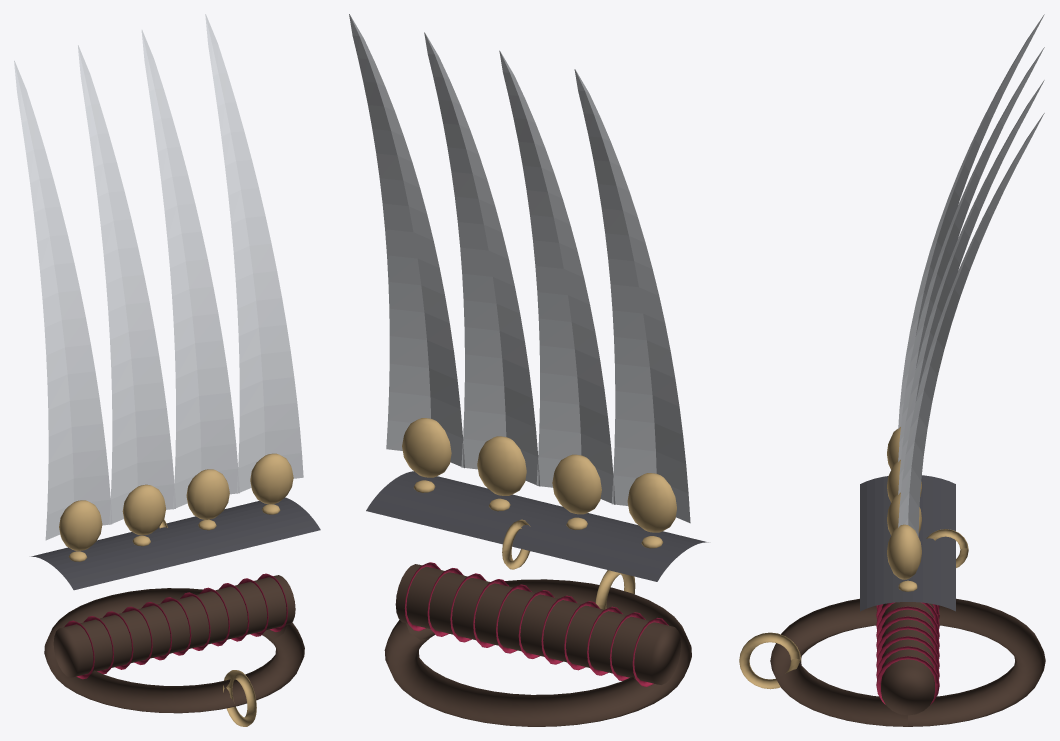
Rendered from tekko_kagi_kurotsuki.glb.
3 views of the same model, side by side, from view 1: azimuth 30°, elevation 25°; view 2: azimuth 150°, elevation 25°; view 3: azimuth 270°, elevation 25° (orthographic). The views are drawn at different scales.
Parts seen in each view (by area): view 1: claws, grip, knuckle_plate, hand_strap, claw_bases, grip_wrap, strap_ring, plate_edges; view 2: claws, grip, knuckle_plate, hand_strap, claw_bases, grip_wrap, strap_ring, plate_edges; view 3: claws, hand_strap, knuckle_plate, grip, claw_bases, grip_wrap, strap_ring.
Boxes of the visible parts, left/top/right/bottom form: claws: left=14, top=14, right=303, bottom=540; grip: left=53, top=575, right=295, bottom=677; knuckle_plate: left=31, top=497, right=320, bottom=590; hand_strap: left=44, top=588, right=304, bottom=713; claw_bases: left=59, top=453, right=293, bottom=550; grip_wrap: left=64, top=573, right=287, bottom=679; strap_ring: left=159, top=519, right=256, bottom=726; plate_edges: left=69, top=504, right=280, bottom=561; claws: left=349, top=14, right=690, bottom=523; grip: left=395, top=564, right=680, bottom=684; knuckle_plate: left=366, top=471, right=708, bottom=581; hand_strap: left=384, top=579, right=691, bottom=726; claw_bases: left=402, top=418, right=676, bottom=532; grip_wrap: left=404, top=562, right=668, bottom=686; strap_ring: left=502, top=519, right=635, bottom=609; plate_edges: left=413, top=480, right=663, bottom=548; claws: left=898, top=14, right=1044, bottom=536; hand_strap: left=770, top=598, right=1045, bottom=726; knuckle_plate: left=860, top=475, right=955, bottom=611; grip: left=881, top=602, right=934, bottom=715; claw_bases: left=887, top=427, right=921, bottom=579; grip_wrap: left=876, top=602, right=939, bottom=704; strap_ring: left=739, top=529, right=968, bottom=689.
Bounding box in the file's own units: 0.1336 × 0.2932 × 0.1302.
